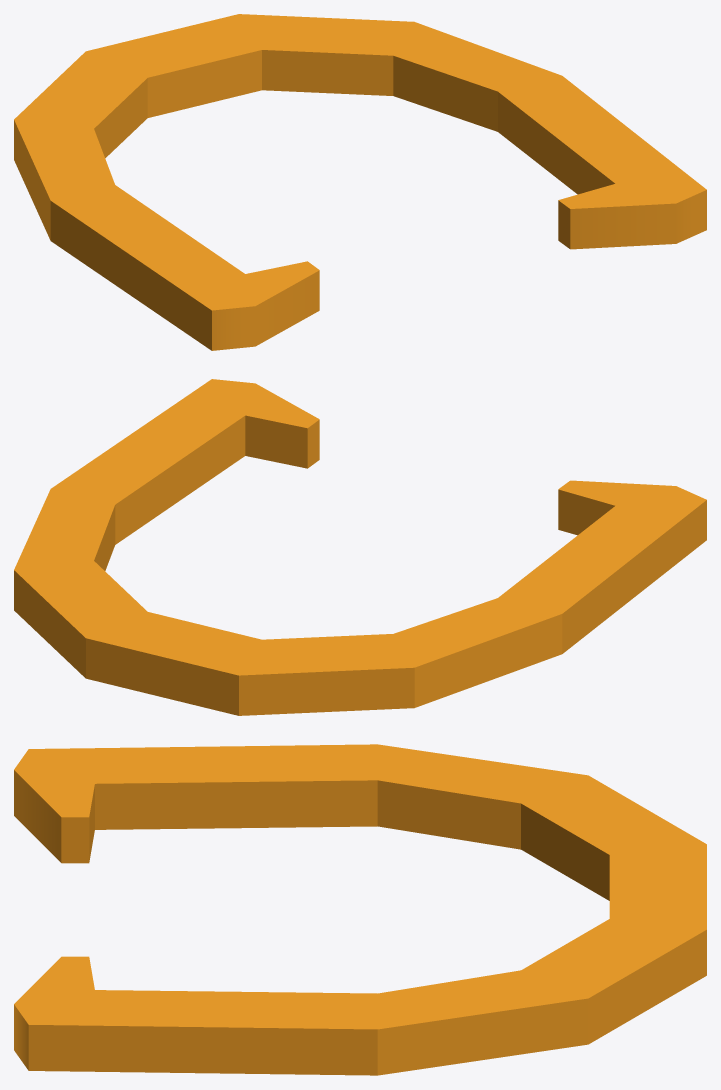
File: SM_Prop_Horseshoe_Toss_01.fbx
3 renders of one model, top to bottom at view 1: azimuth 30°, elevation 25°; view 2: azimuth 150°, elevation 25°; view 3: azimuth 270°, elevation 25°, orthographic. The views are drawn at different scales.
Visible parts, largest first — view 1: SM_Prop_Horseshoe_Toss_01; view 2: SM_Prop_Horseshoe_Toss_01; view 3: SM_Prop_Horseshoe_Toss_01.
Boxes of the visible parts, x1,y1,x2,y2 form: SM_Prop_Horseshoe_Toss_01: [14, 14, 706, 350]; SM_Prop_Horseshoe_Toss_01: [14, 379, 706, 715]; SM_Prop_Horseshoe_Toss_01: [14, 744, 706, 1075].
Size of the model in its own units: 25.7 by 1.94 by 26.4.
